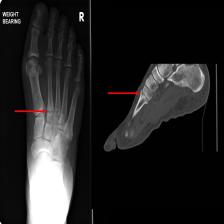stress-fracture: (23, 5, 85, 224), (103, 49, 220, 155)
